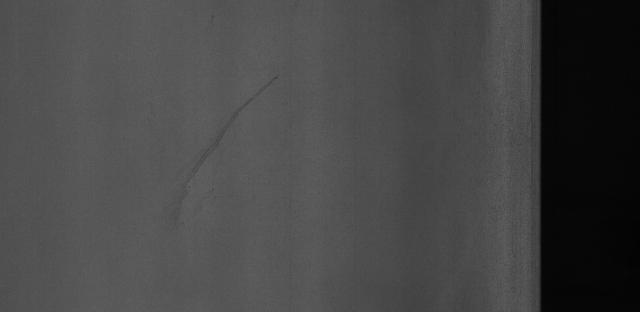water_spot: (157, 67, 295, 246)
